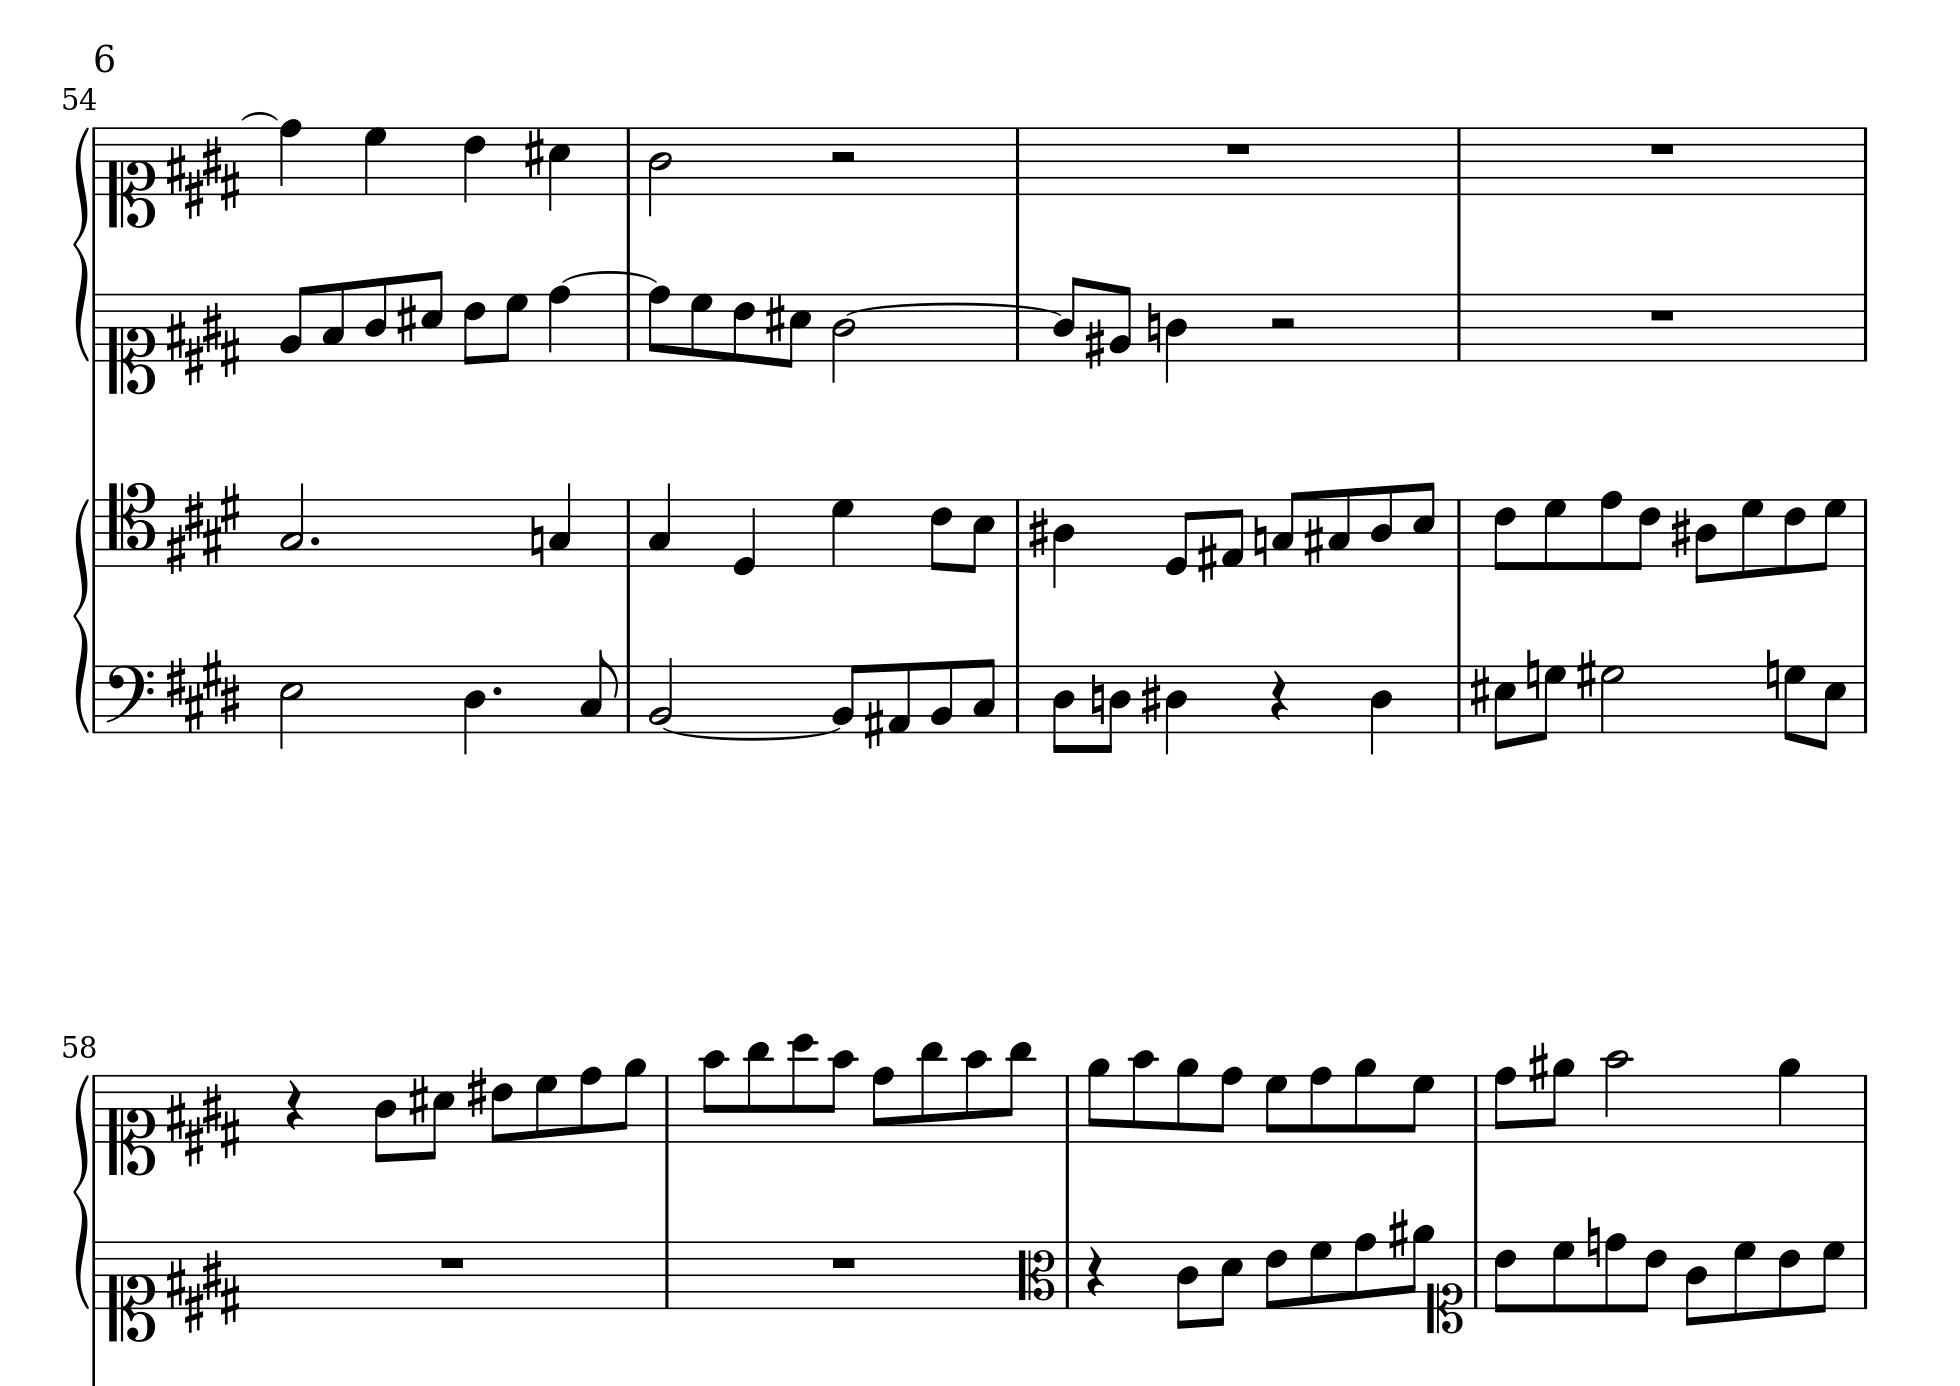2_10: (1600, 1047, 1633, 1146)
2_2: (646, 654, 675, 733)
2_3: (280, 478, 306, 568)
2_4: (831, 292, 856, 382), (646, 126, 672, 214)
2_5: (277, 663, 304, 748)
2_7: (1599, 663, 1624, 732)
4: (79, 85, 97, 112)
4_0: (733, 496, 757, 576)
4_3: (646, 481, 672, 568), (547, 481, 573, 567)
4_4: (1368, 664, 1393, 756), (1051, 496, 1077, 586), (1164, 663, 1188, 756), (1164, 292, 1188, 382), (462, 664, 486, 754)
4_5: (547, 126, 571, 214)
4_6: (462, 124, 486, 204)
4_7: (829, 496, 855, 567), (361, 126, 385, 196)
4_8: (277, 115, 301, 196), (547, 283, 571, 363)
4_9: (1776, 1056, 1803, 1147)
5: (61, 1032, 79, 1060), (61, 85, 78, 111)
6: (94, 40, 115, 72)
8: (78, 1032, 97, 1060)
8_0: (1165, 496, 1197, 577)
8_1: (886, 660, 912, 735), (1221, 498, 1245, 568)
8_10: (825, 1047, 856, 1144), (699, 1047, 729, 1144), (961, 1048, 990, 1144), (1129, 1048, 1156, 1144)
8_11: (1002, 1039, 1035, 1144), (916, 1038, 946, 1144), (744, 1039, 772, 1144)
8_12: (789, 1030, 817, 1144)
8_2: (279, 282, 313, 361), (829, 661, 862, 733), (928, 658, 954, 735), (1108, 283, 1132, 364)
8_3: (579, 648, 618, 733), (1272, 490, 1302, 568), (1327, 486, 1353, 568), (322, 280, 346, 364), (972, 655, 997, 733)
8_4: (1101, 661, 1131, 754), (1053, 274, 1084, 361), (1684, 1239, 1711, 1327), (1050, 661, 1075, 754), (372, 1072, 397, 1164), (1174, 1239, 1200, 1330), (1371, 483, 1396, 567), (364, 274, 388, 363), (1693, 496, 1717, 583)
8_5: (421, 1071, 456, 1162), (1212, 1239, 1245, 1327), (1818, 663, 1848, 751), (420, 268, 445, 364), (1491, 663, 1518, 751), (966, 496, 996, 573), (783, 292, 811, 367), (1413, 480, 1437, 567)
8_6: (1636, 1239, 1668, 1315), (1633, 499, 1662, 573), (1777, 1239, 1803, 1320), (1782, 496, 1807, 574), (462, 292, 487, 367), (1492, 496, 1518, 570), (1264, 1237, 1290, 1311), (1494, 1237, 1518, 1315), (490, 1072, 516, 1144), (928, 496, 952, 571), (730, 292, 754, 364)
8_7: (1533, 663, 1566, 741), (1815, 1239, 1848, 1315), (1815, 496, 1848, 570), (496, 291, 528, 363), (1404, 1072, 1434, 1144), (1732, 1239, 1758, 1323), (1740, 496, 1765, 577), (1782, 661, 1807, 742), (532, 1072, 559, 1144), (1551, 1239, 1576, 1314), (1542, 496, 1567, 570), (1308, 1239, 1333, 1311), (1264, 1072, 1288, 1144), (688, 292, 712, 361)
8_8: (1212, 1065, 1243, 1144), (1602, 1230, 1629, 1315), (577, 1063, 604, 1144), (1353, 1231, 1380, 1311), (1597, 487, 1623, 570), (1308, 1063, 1333, 1144), (1492, 1063, 1518, 1144), (871, 1063, 895, 1144), (646, 283, 670, 361)
8_9: (1402, 1222, 1437, 1312), (618, 1056, 649, 1143), (1545, 1057, 1575, 1144), (1086, 1056, 1111, 1144), (1174, 1057, 1200, 1144), (1353, 1057, 1377, 1144)
Brace: (70, 121, 91, 363), (70, 493, 91, 733), (72, 1069, 91, 1312)
Cclef: (1017, 1239, 1057, 1309)
E_S: (163, 480, 244, 574), (165, 132, 243, 219), (163, 1245, 241, 1332), (163, 648, 243, 732), (165, 298, 241, 385), (165, 1078, 241, 1165)
Fclef: (105, 663, 154, 733)
Natural: (1524, 645, 1542, 700), (1764, 643, 1782, 699), (1584, 1213, 1602, 1269), (1252, 514, 1270, 568), (1089, 670, 1107, 724), (529, 514, 546, 567), (1146, 300, 1161, 354)
Rests1: (1647, 303, 1678, 324), (436, 1251, 468, 1270), (1647, 139, 1678, 157), (828, 1252, 859, 1270), (1224, 139, 1254, 157)
Rests2: (1267, 313, 1299, 331), (828, 148, 859, 165)
Rests4: (1084, 1243, 1107, 1299), (1269, 667, 1290, 721), (285, 1078, 303, 1131)
Sharp: (1386, 1204, 1410, 1260), (1302, 513, 1324, 567), (406, 1072, 429, 1126), (1527, 1039, 1549, 1093), (1141, 670, 1162, 727), (763, 292, 786, 345), (1671, 504, 1692, 559), (523, 126, 544, 180), (1084, 316, 1105, 370), (1029, 505, 1050, 559), (1575, 646, 1596, 700), (466, 1063, 487, 1117), (396, 291, 417, 343), (1470, 664, 1491, 717), (1197, 532, 1218, 583), (862, 697, 883, 748)
Single_barline: (1006, 292, 1032, 358), (1006, 127, 1030, 195), (1006, 664, 1029, 732), (1006, 498, 1027, 567), (619, 292, 637, 361), (1059, 1072, 1077, 1141), (619, 127, 637, 195), (619, 499, 637, 565), (619, 664, 637, 730), (1059, 1240, 1077, 1306), (660, 1072, 676, 1143), (1857, 126, 1873, 195), (1857, 664, 1873, 733), (1450, 127, 1467, 193), (658, 1239, 673, 1309), (88, 292, 103, 361), (1452, 292, 1467, 361), (1857, 292, 1872, 361), (1858, 498, 1873, 567), (88, 1240, 103, 1309), (87, 126, 102, 193), (88, 498, 103, 565), (1858, 1074, 1873, 1141), (1452, 499, 1467, 565), (1452, 664, 1467, 730), (88, 664, 102, 732), (88, 1074, 102, 1141), (1470, 1075, 1483, 1141), (1470, 1240, 1482, 1309), (1860, 1240, 1872, 1309)
Slur: (663, 726, 850, 739), (561, 270, 657, 283), (241, 109, 277, 121)
Soprano_Cclef: (106, 291, 157, 397), (106, 1237, 157, 1342), (106, 1072, 156, 1176), (106, 124, 154, 229), (1426, 1240, 1464, 1336)
Tensor_Cclef: (106, 480, 157, 567)
dot: (489, 682, 504, 697), (309, 532, 319, 547)
